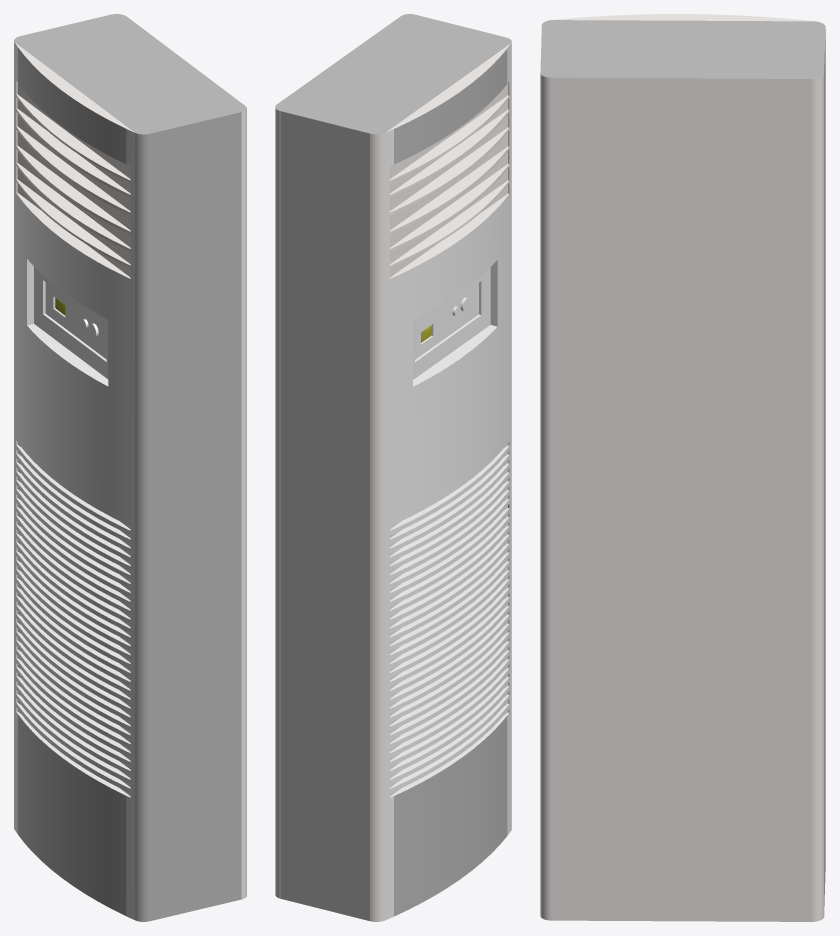
The model's file is air_conditioner_02_fixed.glb.
3 renders of one model, left to right at view 1: azimuth 30°, elevation 25°; view 2: azimuth 150°, elevation 25°; view 3: azimuth 270°, elevation 25°, orthographic. The views are drawn at different scales.
Parts seen in each view (by area): view 1: room_310_air_conditioner_02_part_001, room_310_air_conditioner_02_part_002, room_310_air_conditioner_02_part_003; view 2: room_310_air_conditioner_02_part_001, room_310_air_conditioner_02_part_002, room_310_air_conditioner_02_part_003; view 3: room_310_air_conditioner_02_part_003, room_310_air_conditioner_02_part_001, room_310_air_conditioner_02_part_002.
Boxes of the visible parts, box(x1,y1,x2,y2) form: room_310_air_conditioner_02_part_001: box(14, 14, 246, 921); room_310_air_conditioner_02_part_002: box(14, 43, 246, 919); room_310_air_conditioner_02_part_003: box(14, 41, 134, 829); room_310_air_conditioner_02_part_001: box(275, 14, 511, 920); room_310_air_conditioner_02_part_002: box(385, 43, 511, 919); room_310_air_conditioner_02_part_003: box(275, 43, 510, 921); room_310_air_conditioner_02_part_003: box(551, 14, 824, 921); room_310_air_conditioner_02_part_001: box(540, 20, 825, 905); room_310_air_conditioner_02_part_002: box(540, 73, 551, 920).
Size of what is drawn, in the model's own units: 0.3351 by 2.02 by 0.6205.
4 materials, 1 textured.
